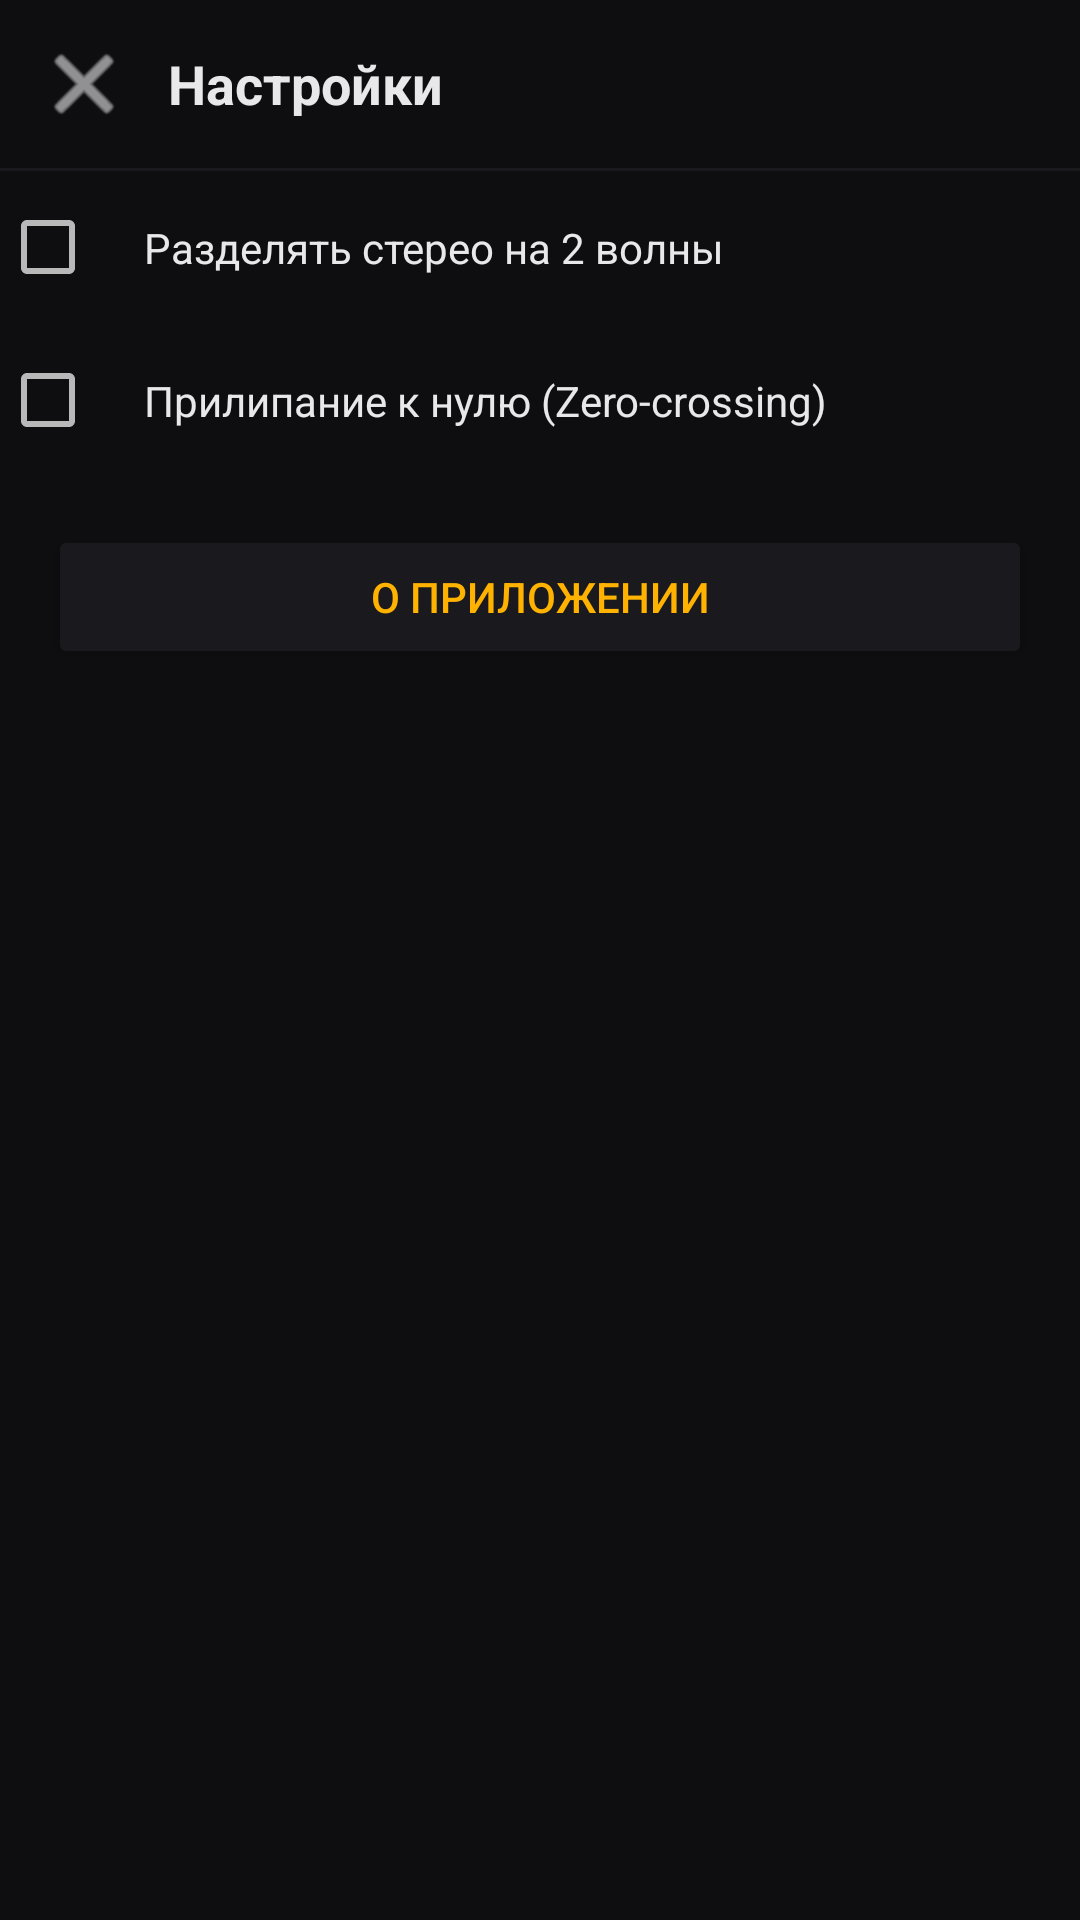

Screen size 1080w x 1920h. Icon name, then its center in pixels as point (x, y):
Назад: point (84, 84)
